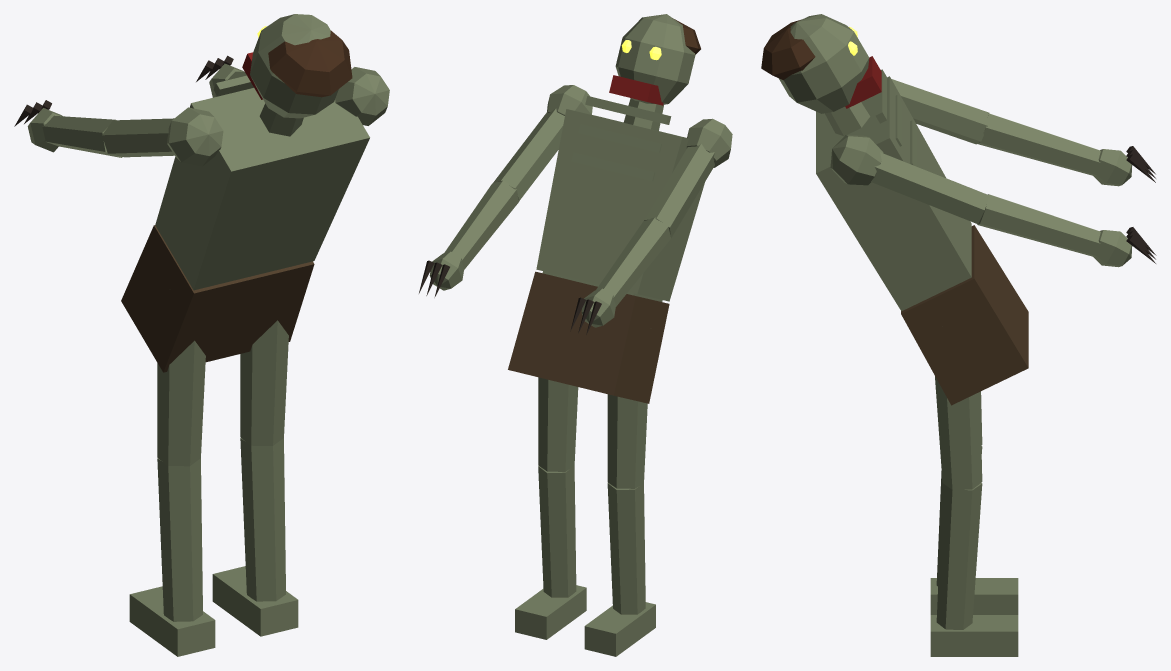
The model's file is ghoul.glb.
3 views of the same model, side by side, from view 1: azimuth 30°, elevation 25°; view 2: azimuth 150°, elevation 25°; view 3: azimuth 270°, elevation 25° (orthographic). The views are drawn at different scales.
Parts seen in each view (by area): view 1: torso, leg_l, leg_r, head, arm_l, arm_r; view 2: torso, leg_l, leg_r, arm_l, arm_r, head; view 3: torso, leg_r, arm_r, head, arm_l, leg_l.
Part boxes in pixels (<box>): torso: <box>121,75,369,372</box>; leg_l: <box>129,340,215,656</box>; leg_r: <box>212,320,298,636</box>; head: <box>242,14,352,136</box>; arm_l: <box>14,100,223,166</box>; arm_r: <box>196,55,389,125</box>; torso: <box>508,96,704,403</box>; leg_l: <box>584,394,655,656</box>; leg_r: <box>515,377,586,639</box>; arm_l: <box>570,118,732,334</box>; arm_r: <box>419,85,592,297</box>; head: <box>609,14,700,130</box>; torso: <box>816,69,1028,405</box>; leg_r: <box>930,376,1018,656</box>; arm_r: <box>830,135,1156,267</box>; head: <box>761,14,881,136</box>; arm_l: <box>891,79,1155,186</box>; leg_l: <box>930,391,1018,614</box>.
Bounding box in the file's own units: 0.581 × 1.7 × 0.9939.
